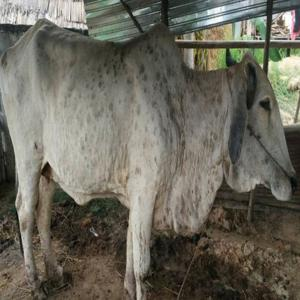lumpy skin diesease: (0, 16, 297, 299)
